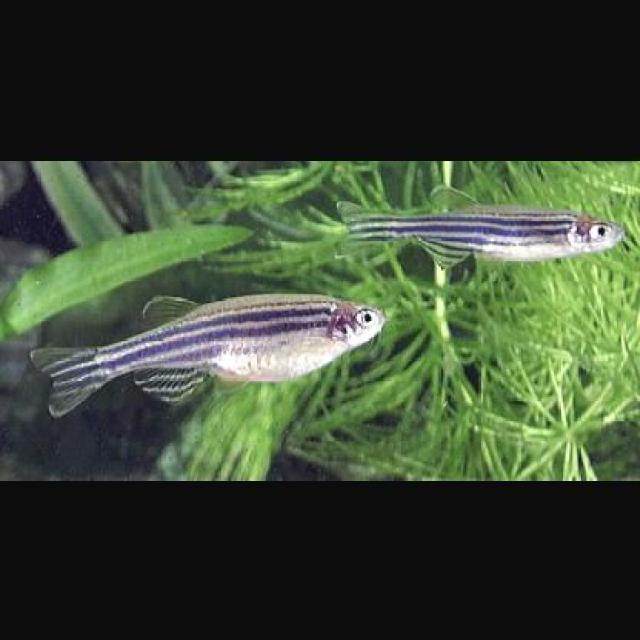ZebraFish: (30, 290, 388, 416), (338, 182, 628, 264)
